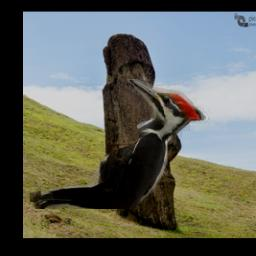Woodpecker: (30, 80, 210, 210)
